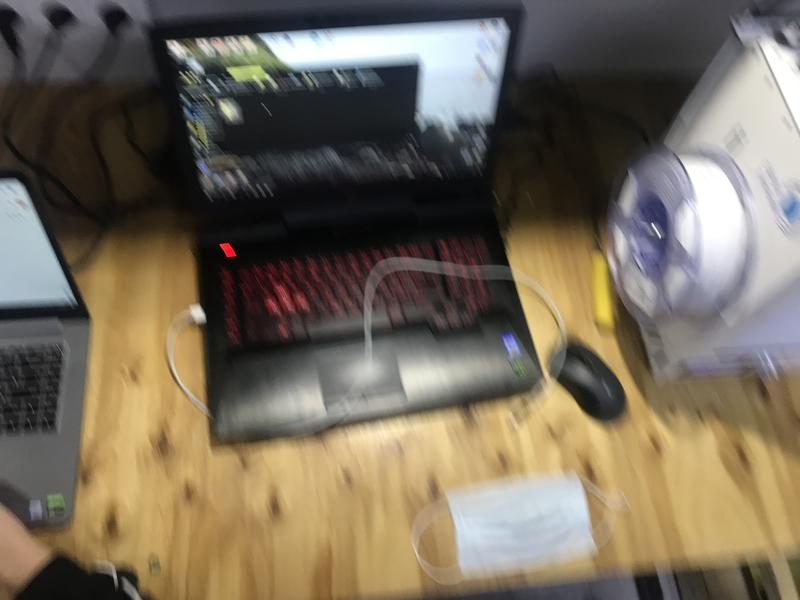medical_mask: (411, 472, 630, 582)
